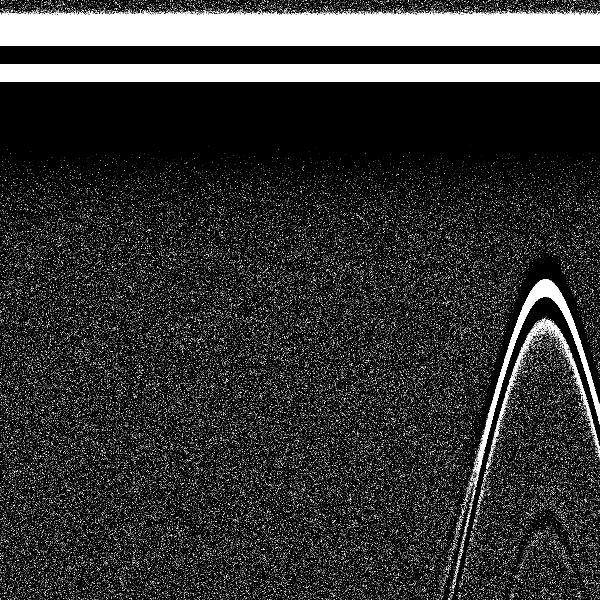pipe: (490, 5, 597, 371)
